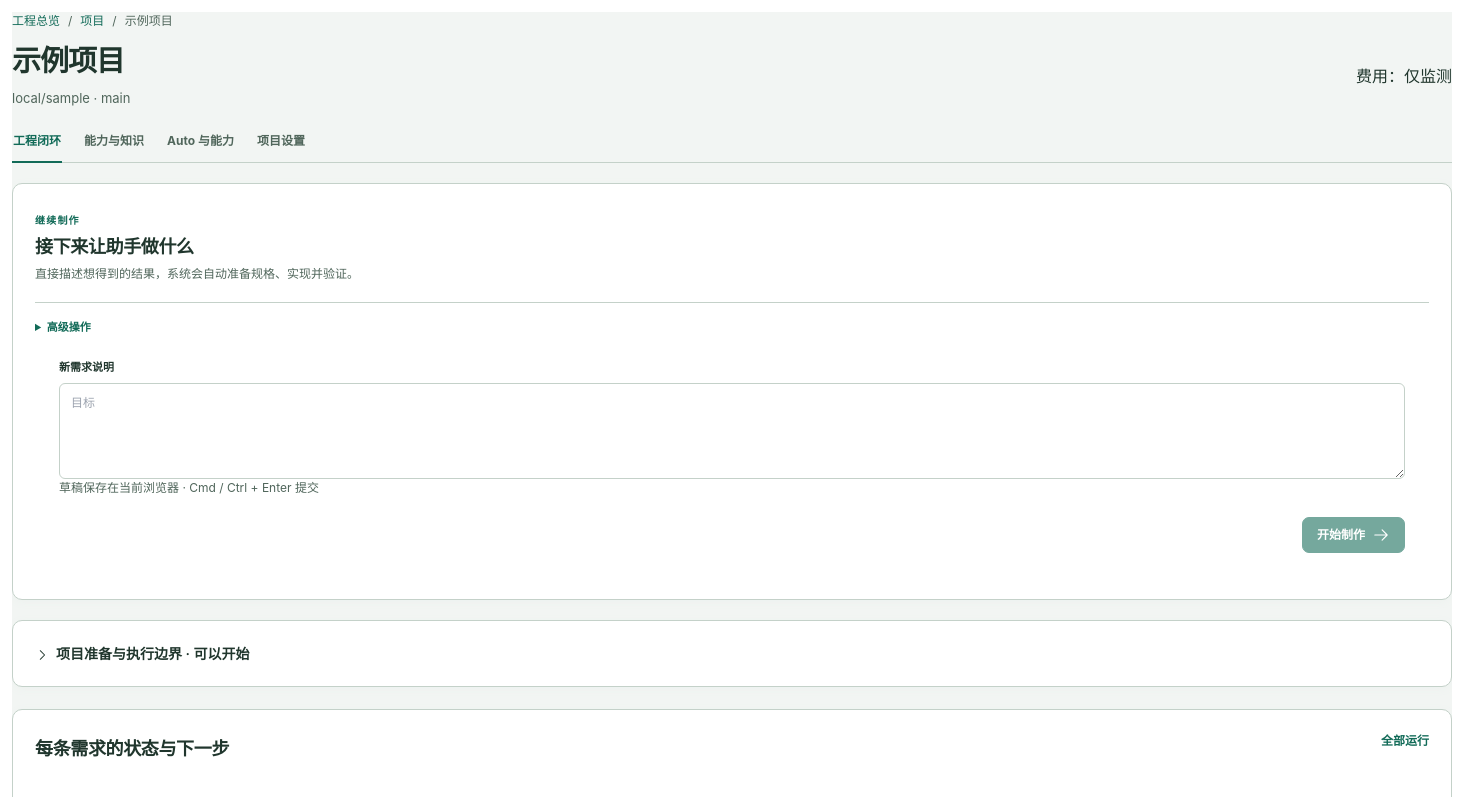
Test: ProjectPage maintenance entry › retains idempotency key on retry and leaves optional fields empty
The width and height of the screenshot is (1464, 797).
Click the heading "高级操作". click: point(69, 327)
box: [47,320,91,334]
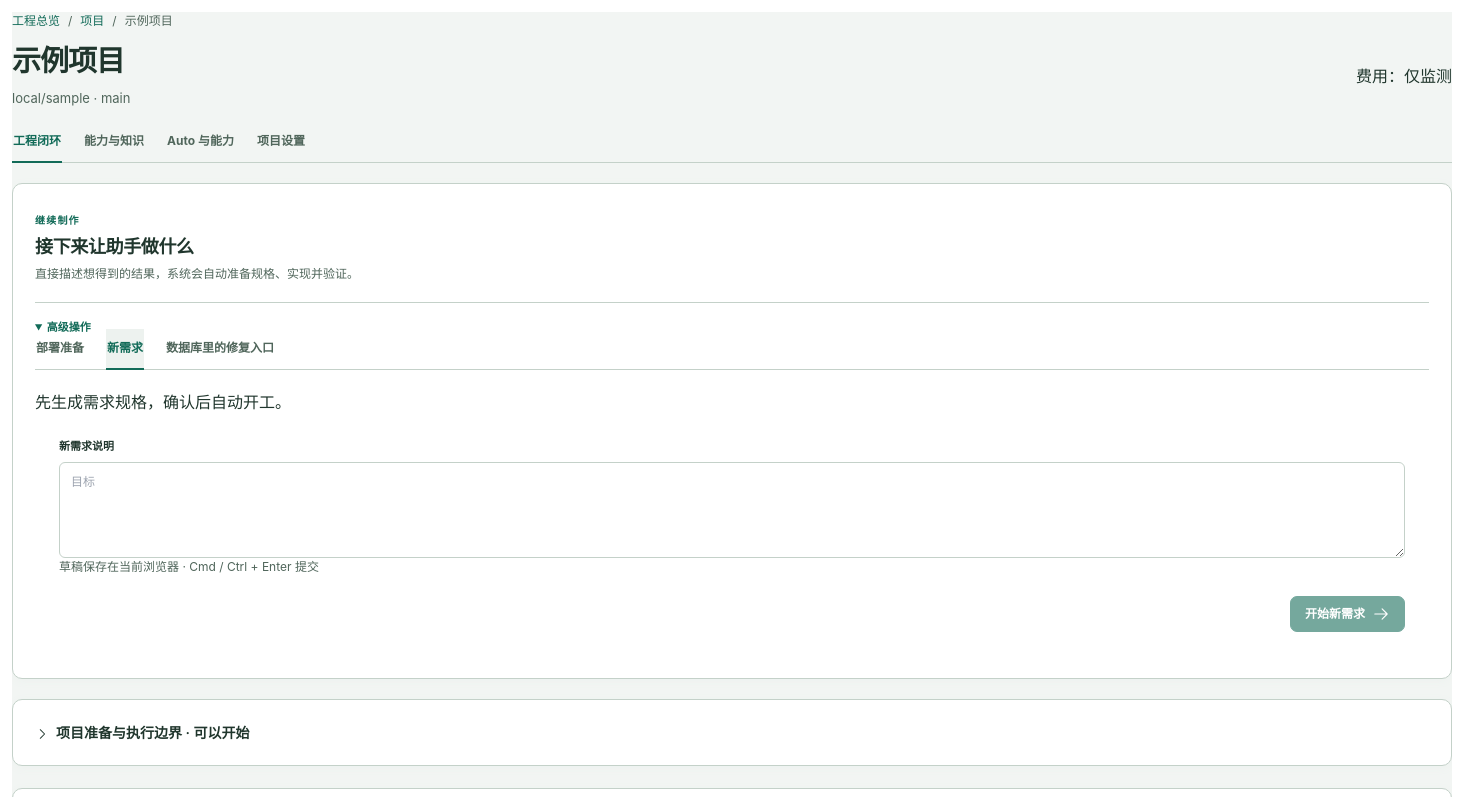
Click the tab "数据库里的修复入口". click: point(220, 349)
box: [165,329,275,369]
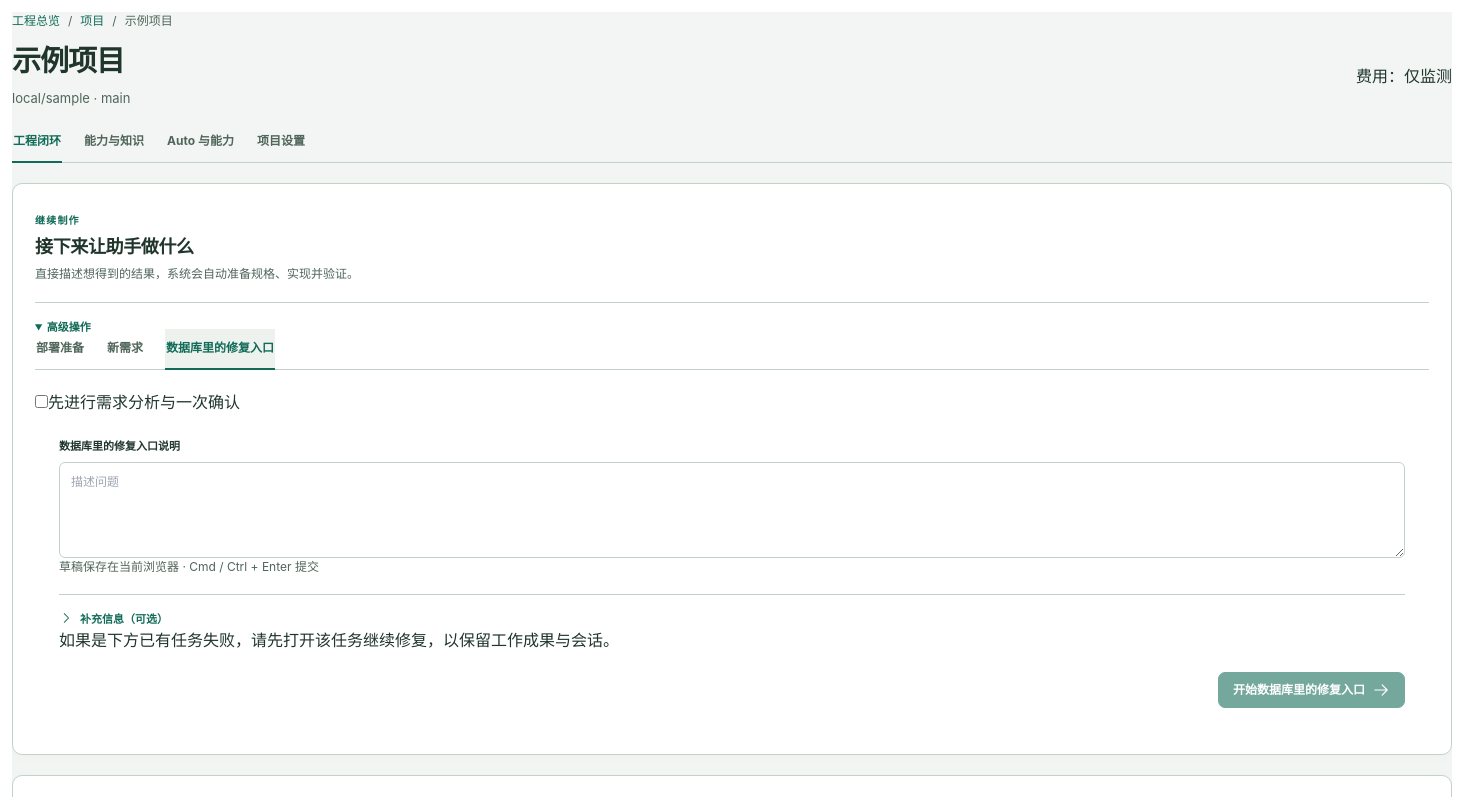
Type "保存失败" into the text box labelled "数据库里的修复入口说明". click: point(732, 510)
box: [59,462,1405,558]
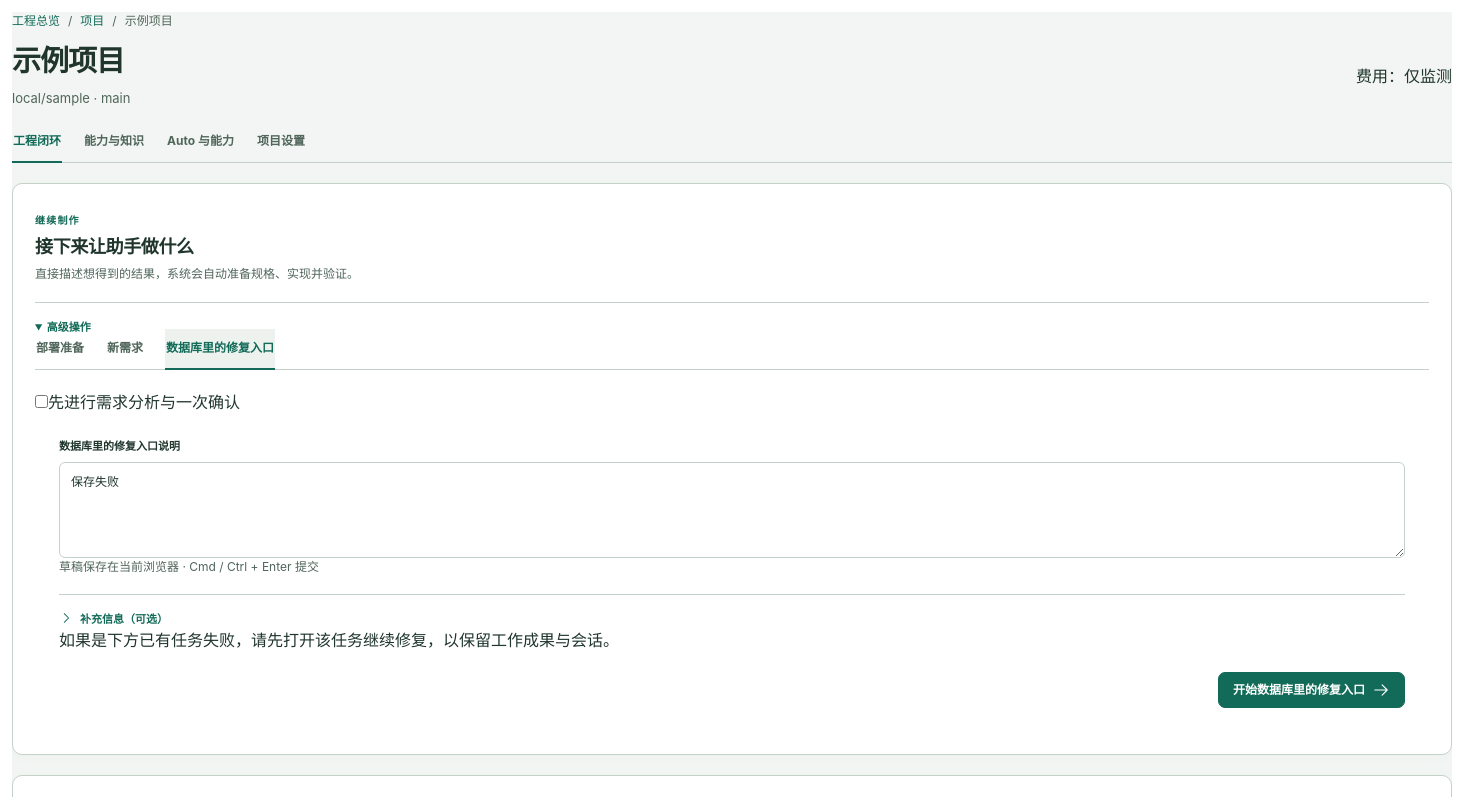
Click the button "开始数据库里的修复入口". click: point(1312, 690)
box: [1218,672,1405,708]
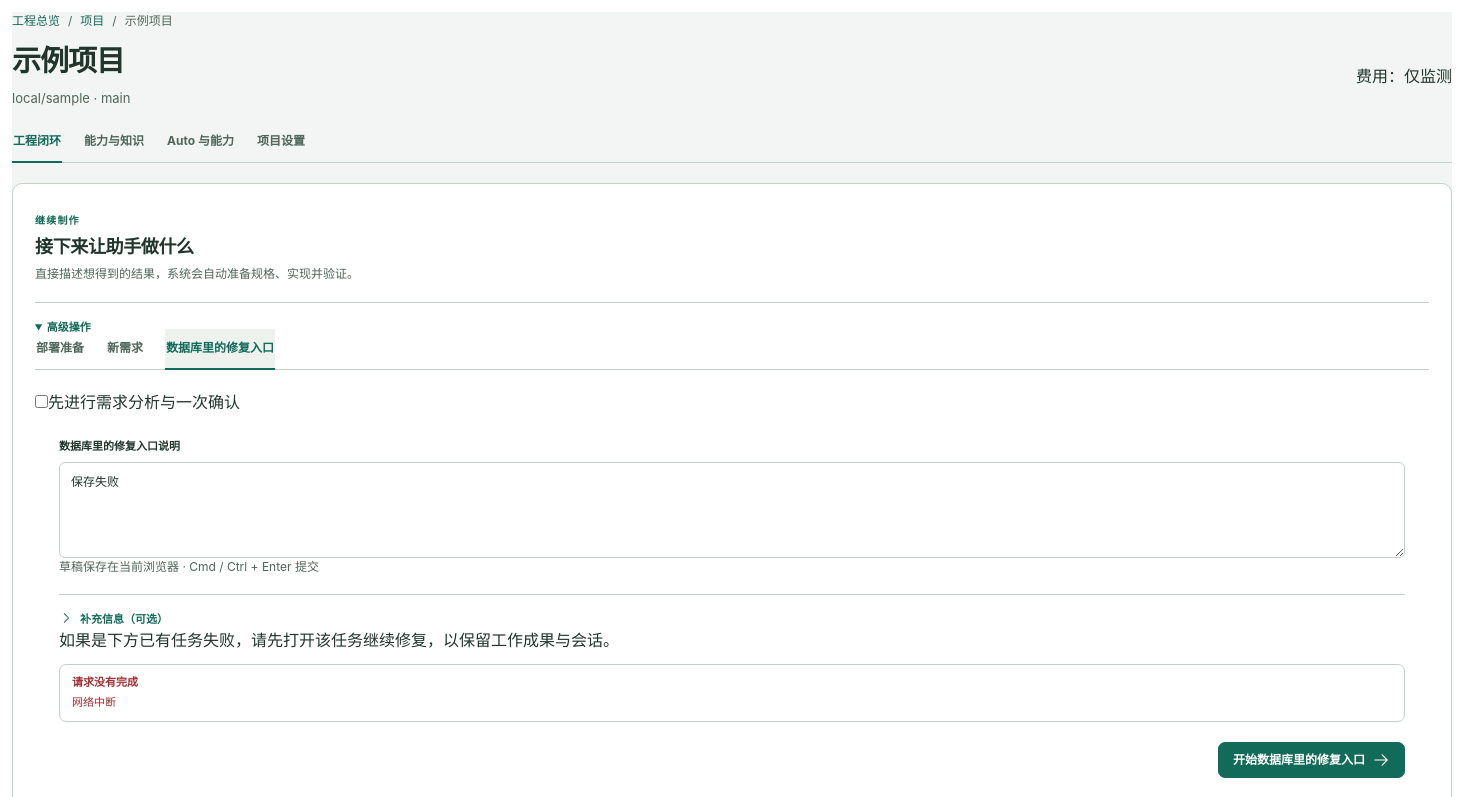
Expected: the text "网络中断" is shown, [72,695,116,709]
Click the button "开始数据库里的修复入口". click: point(1312, 760)
box: [1218,742,1405,778]
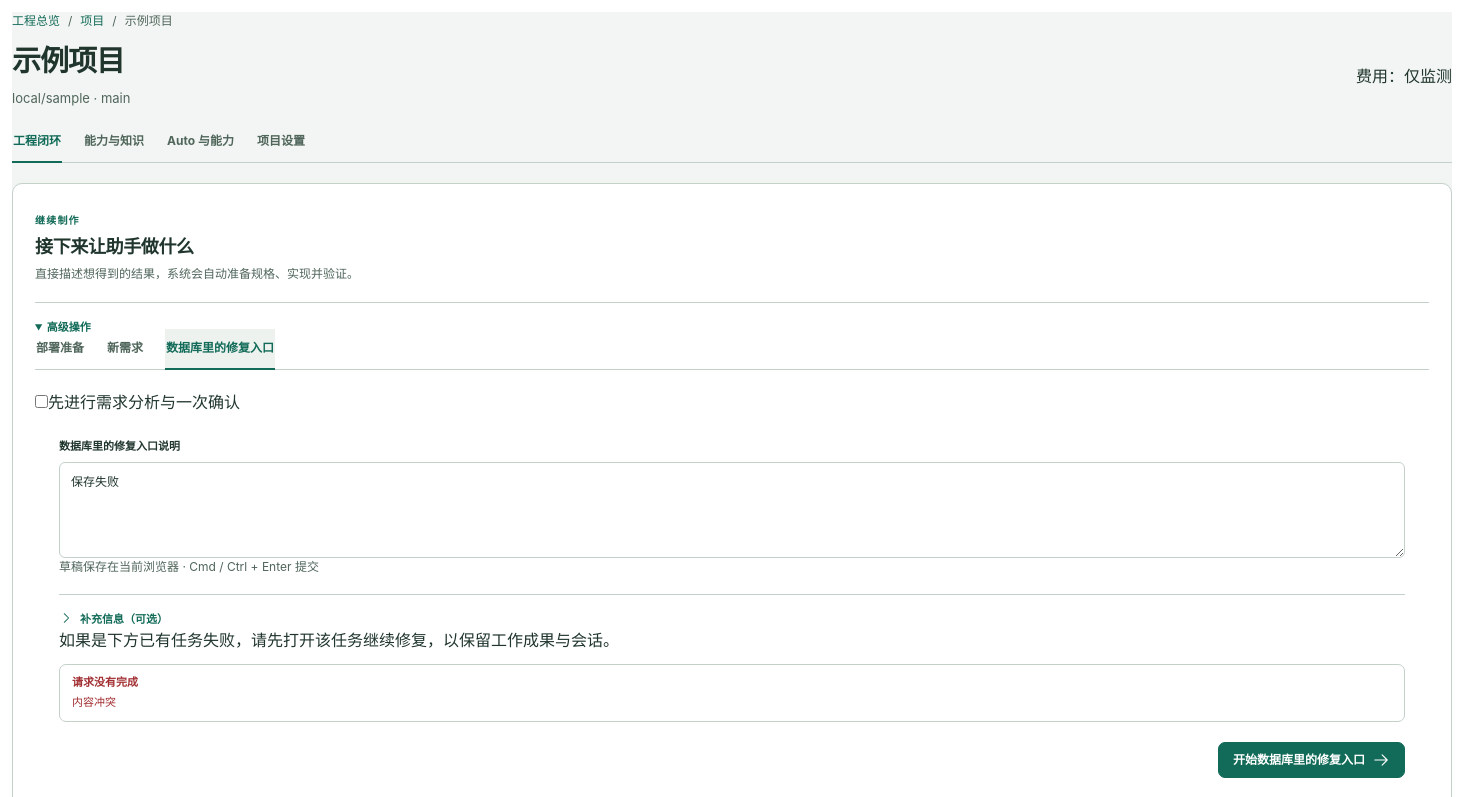
Expected: the text "内容冲突" is shown, [72,695,116,709]
